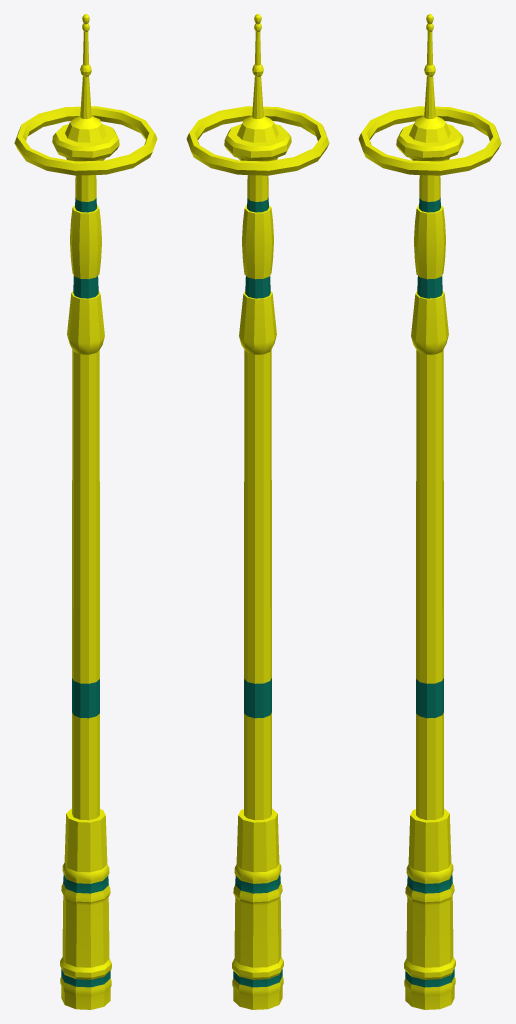
The model's file is SM_antenne.fbx.
3 views of the same model, side by side, from view 1: azimuth 30°, elevation 25°; view 2: azimuth 150°, elevation 25°; view 3: azimuth 330°, elevation 25° (orthographic).
Parts seen in each view (by area): view 1: SM_antenne; view 2: SM_antenne; view 3: SM_antenne.
Part boxes in pixels (bbox=[...]): SM_antenne: bbox=[14, 14, 157, 1009]; SM_antenne: bbox=[186, 14, 329, 1009]; SM_antenne: bbox=[358, 14, 501, 1009].
Bounding box in the file's own units: 1.12 × 8.47 × 1.09.
